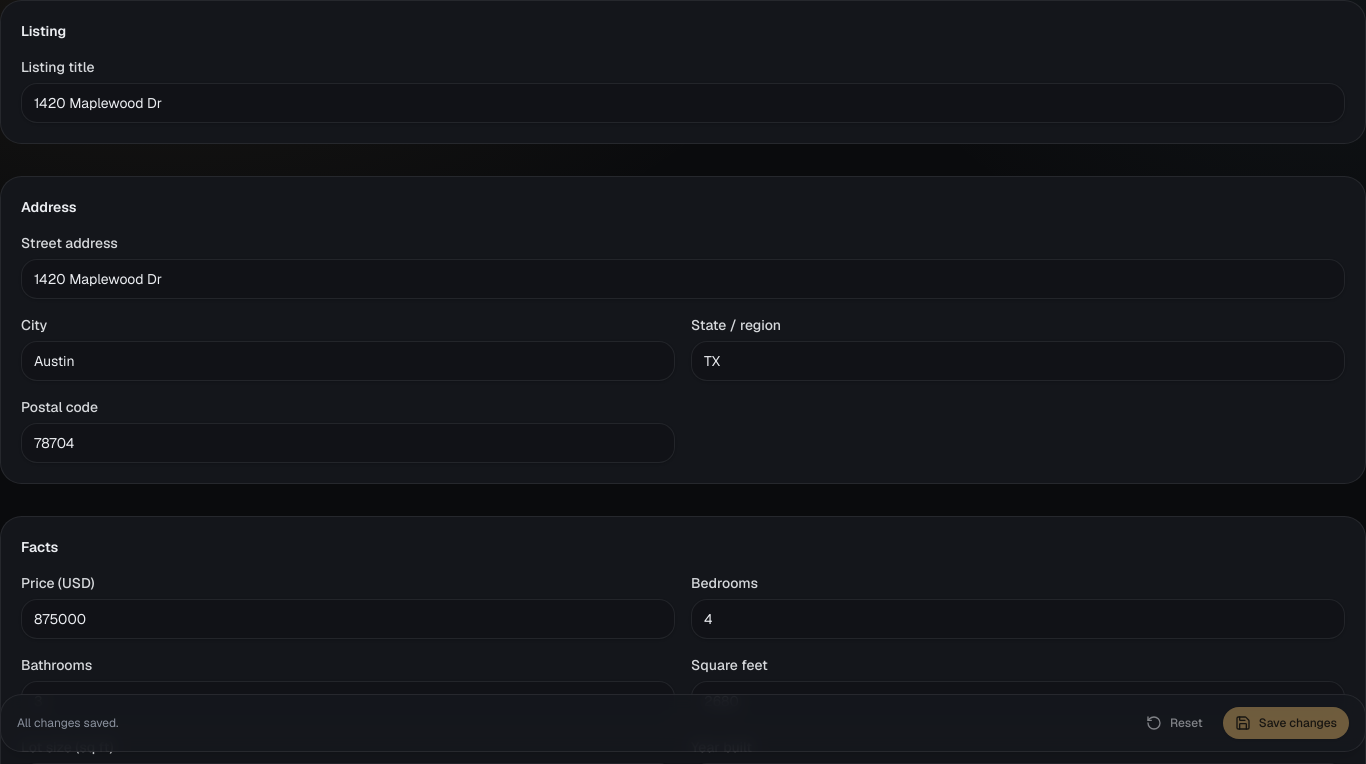
Test: ListingEditor › enables Save when a field becomes dirty and disables it again after Reset
This screenshot has width=1366, height=764.
Replace the text in the field labelled "Price (USD)" with "900000" at point(348, 619), box [21,599,675,639]
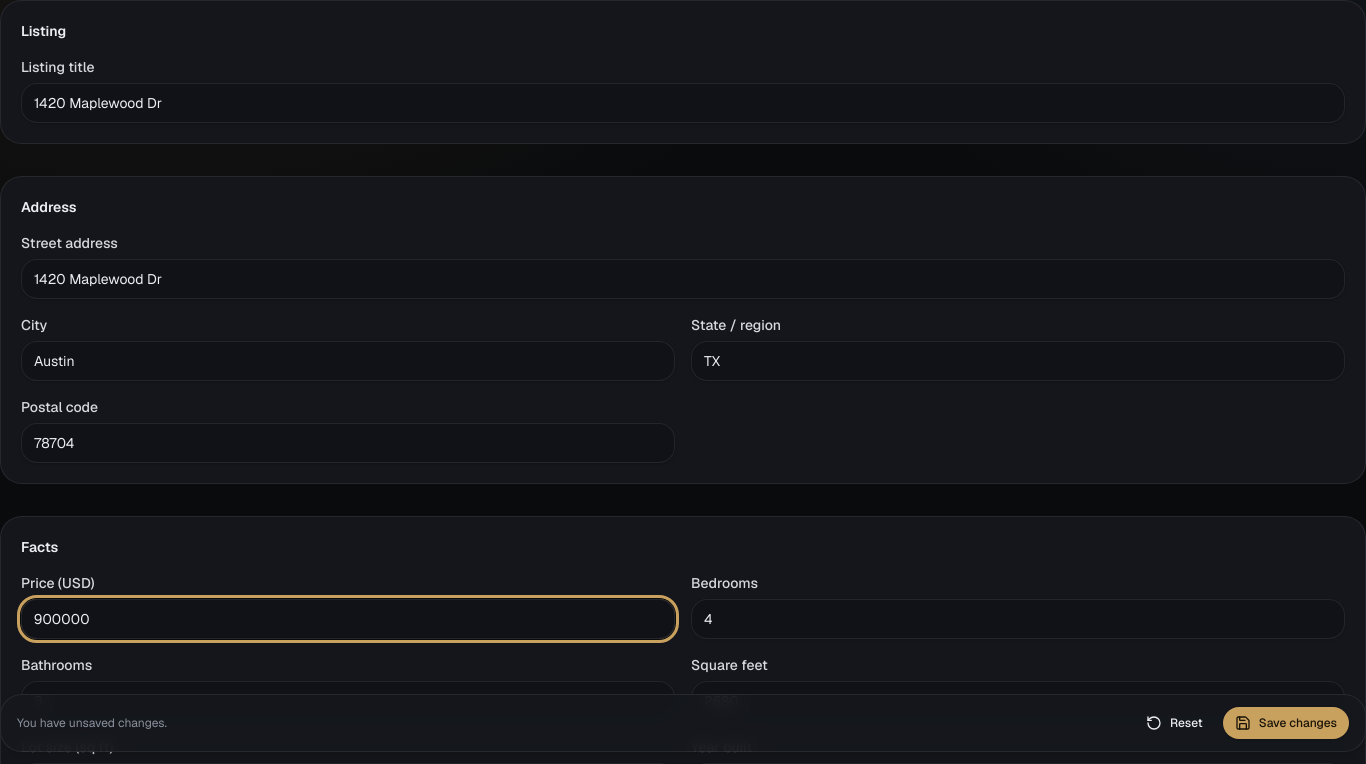
Now the button "Save changes" is enabled, box [1223,707,1349,739]
Click the button "Reset" at point(1174, 723), box [1134,707,1215,739]
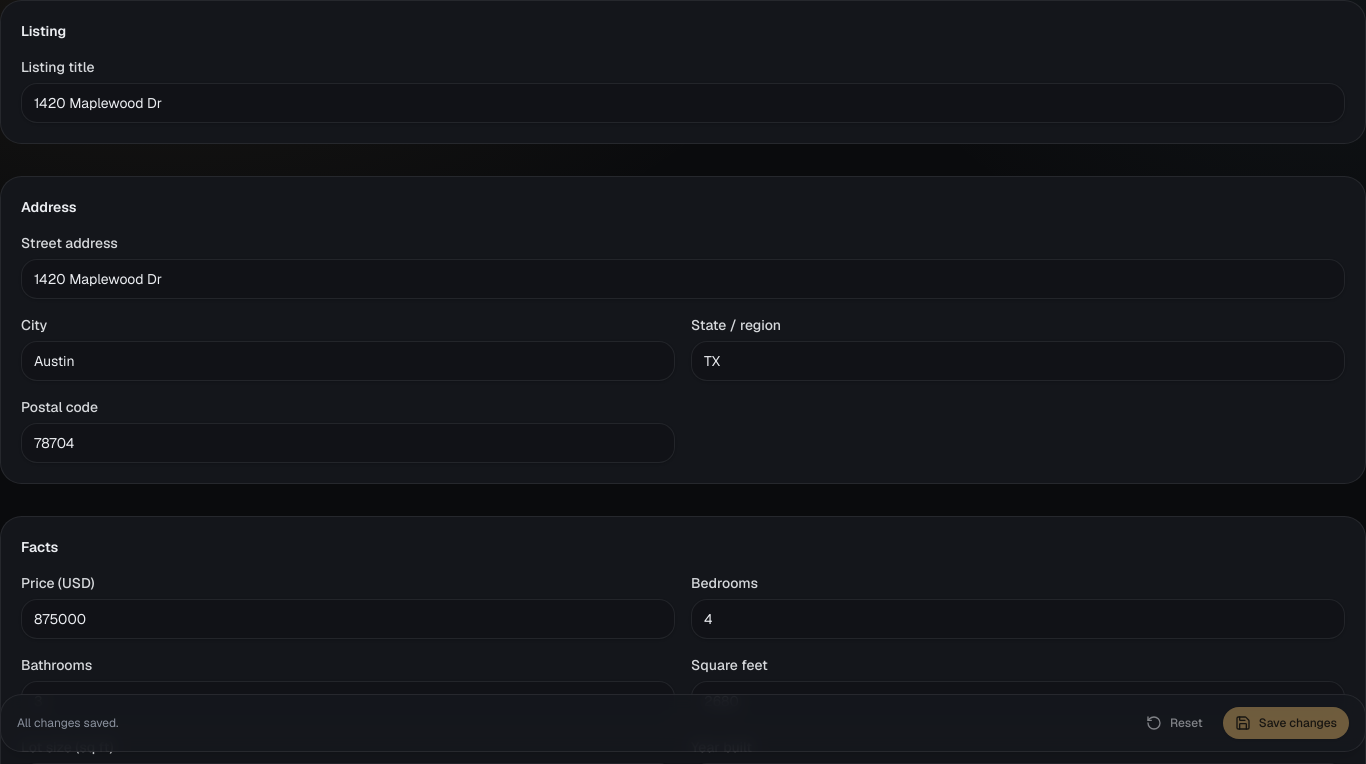
Now the button "Save changes" is disabled, box [1223,707,1349,739]
